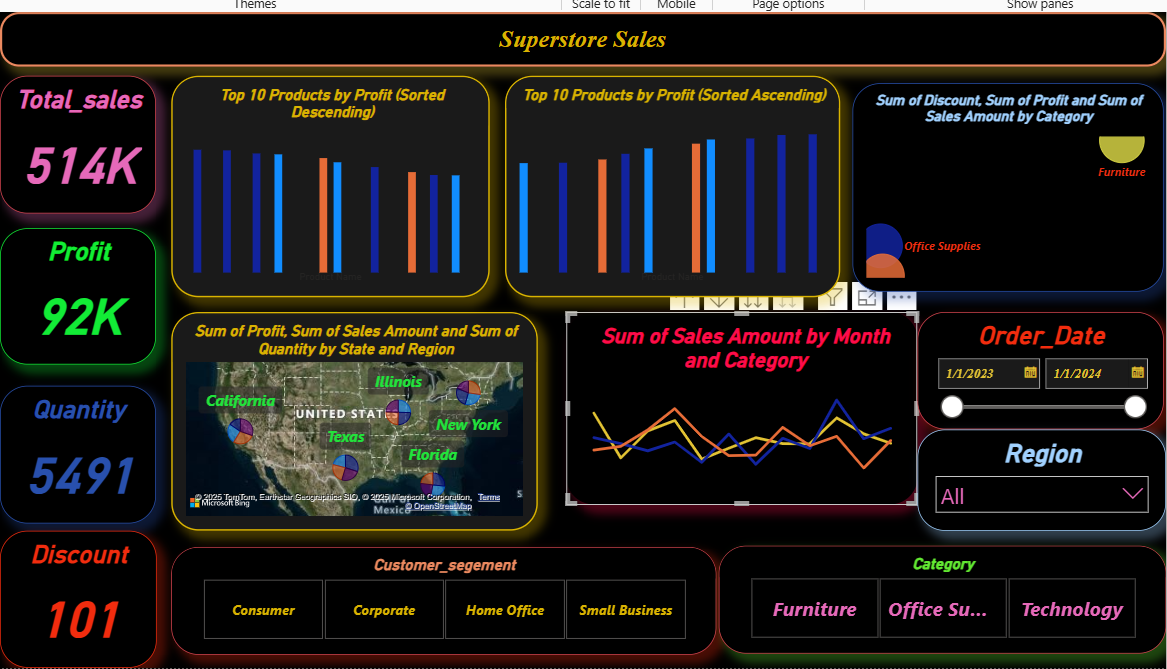

What the dashboard file says about the page in this screenshot:
{"tool":"powerbi","page":{"name":"Page 1","canvas":[1280,720],"ordinal":0},"visuals":[{"type":"textbox","box":[0,0,1280.3,60.4],"z":0},{"type":"card","title":"Total_sales","fields":{"Values":["Sum(Sheet1.Sales Amount)"]},"box":[0,70,171.5,150.9],"z":1000},{"type":"card","title":"Profit","fields":{"Values":["Sum(Sheet1.Profit)"]},"box":[0,237.4,171.5,149.6],"z":2000},{"type":"card","title":"Quantity","fields":{"Values":["Sum(Sheet1.Quantity)"]},"box":[0,410.3,171.5,150.9],"z":3000},{"type":"lineChart","fields":{"Category":["Sheet1.Order Date.Variation.Date Hierarchy.Year","Sheet1.Order Date.Variation.Date Hierarchy.Quarter","Sheet1.Order Date.Variation.Date Hierarchy.Month","Sheet1.Order Date.Variation.Date Hierarchy.Day"],"Y":["Sum(Sheet1.Sales Amount)"],"Series":["Sheet1.Category"]},"box":[621.6,329.3,385.6,211.3],"z":4000},{"type":"map","fields":{"Category":["Sheet1.State"],"Size":["Sum(Sheet1.Profit)"],"Series":["Sheet1.Region"]},"box":[188,329.3,402.1,240.1],"z":5000},{"type":"clusteredColumnChart","title":"Top 10 Products by Profit (Sorted Descending)","fields":{"Category":["Sheet1.Product Name"],"Y":["Sum(Sheet1.Profit)"],"Series":["Sheet1.Category"]},"box":[188,70,349.9,242.9],"z":6000},{"type":"clusteredColumnChart","title":"Top 10 Products by Profit (Sorted Ascending)","fields":{"Category":["Sheet1.Product Name"],"Y":["Sum(Sheet1.Profit)"],"Series":["Sheet1.Category"]},"box":[554.4,70,367.8,242.9],"z":7000},{"type":"scatterChart","fields":{"X":["Sum(Sheet1.Discount)"],"Y":["Sum(Sheet1.Profit)"],"Size":["Sum(Sheet1.Sales Amount)"],"Series":["Sheet1.Category"]},"box":[935.9,78.2,341.7,229.2],"z":8000},{"type":"slicer","title":"Order_Date","fields":{"Values":["Sheet1.Order Date"]},"box":[1007.2,329.3,270.3,129],"z":9000},{"type":"card","title":"Discount","fields":{"Values":["Sum(Sheet1.Discount)"]},"box":[0,570,172,150],"z":10000},{"type":"slicer","title":"Region","fields":{"Values":["Sheet1.Region"]},"box":[1007.2,458.3,273.1,111.1],"z":11000},{"type":"slicer","title":"Customer_segement","fields":{"Values":["Sheet1.Customer Segment"]},"box":[188,587.3,598.3,118],"z":12000},{"type":"slicer","title":"Category","fields":{"Values":["Sheet1.Category"]},"box":[789,585.9,491.3,118],"z":13000}]}

Visuals, with their boxes on the page's 1280x720 design canvas (x1, y1, x2, y2). These are canvas units, not pixel positions in the 1167x669 screenshot, which may show the page scaled, cropped or inside an application window:
textbox: 0:0:1280:60
"Total_sales" card: 0:70:172:221
"Profit" card: 0:237:172:387
"Quantity" card: 0:410:172:561
lineChart - Sheet1.Order Date.Variation.Date Hierarchy.Year x Sheet1.Order Date.Variation.Date Hierarchy.Quarter: 622:329:1007:541
map - Sheet1.State x Sum(Sheet1.Profit): 188:329:590:569
"Top 10 Products by Profit (Sorted Descending)" clusteredColumnChart: 188:70:538:313
"Top 10 Products by Profit (Sorted Ascending)" clusteredColumnChart: 554:70:922:313
scatterChart - Sum(Sheet1.Discount) x Sum(Sheet1.Profit): 936:78:1278:307
"Order_Date" slicer: 1007:329:1278:458
"Discount" card: 0:570:172:720
"Region" slicer: 1007:458:1280:569
"Customer_segement" slicer: 188:587:786:705
"Category" slicer: 789:586:1280:704
